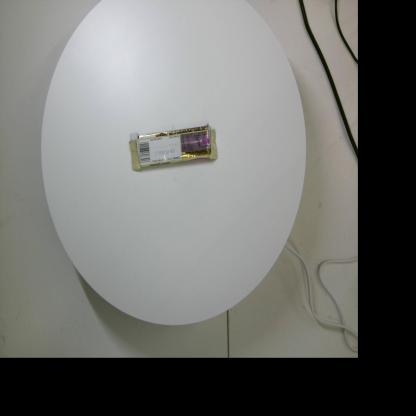Chocolate: (128, 122, 218, 171)
